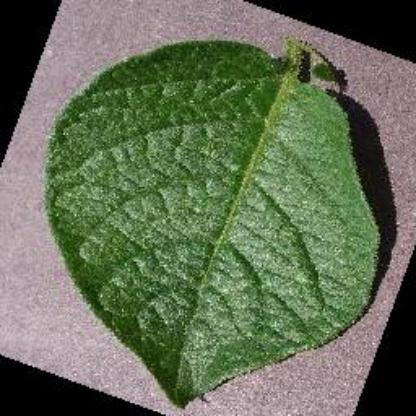Healthy-plant: (52, 41, 387, 407)
